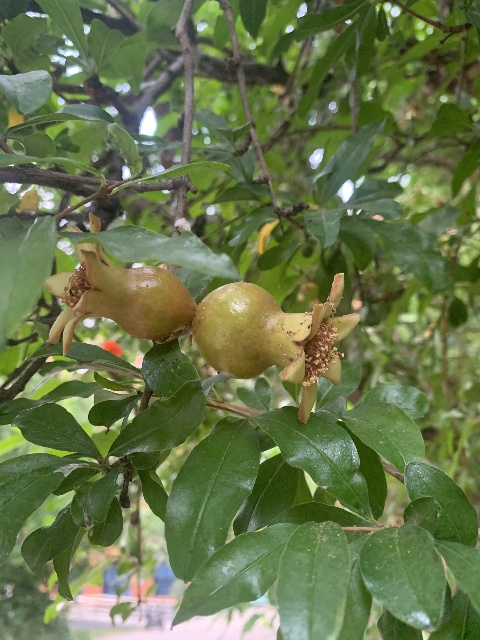early-fruit: (44, 213, 194, 354)
mid-growth: (193, 271, 360, 425)
